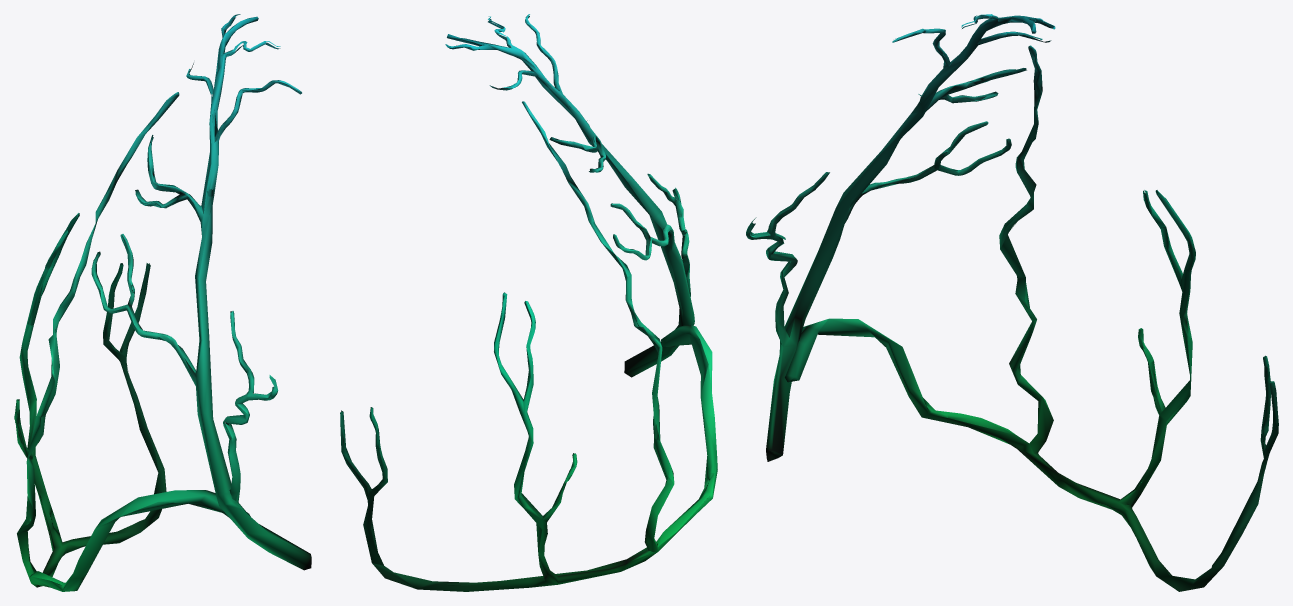
File: zeometry-organic-forms-branching-vein_v3.glb
3 views of the same model, side by side, from view 1: azimuth 30°, elevation 25°; view 2: azimuth 150°, elevation 25°; view 3: azimuth 270°, elevation 25° (orthographic). The views are drawn at different scales.
Visible parts, largest first — view 1: Branching Vein_v3; view 2: Branching Vein_v3; view 3: Branching Vein_v3.
Part boxes in pixels (x1,y1,x2,y2): Branching Vein_v3: (14, 14, 311, 591); Branching Vein_v3: (340, 14, 717, 591); Branching Vein_v3: (746, 14, 1278, 591).
Size of the model in its own units: 0.2362 by 0.5 by 0.4163.
